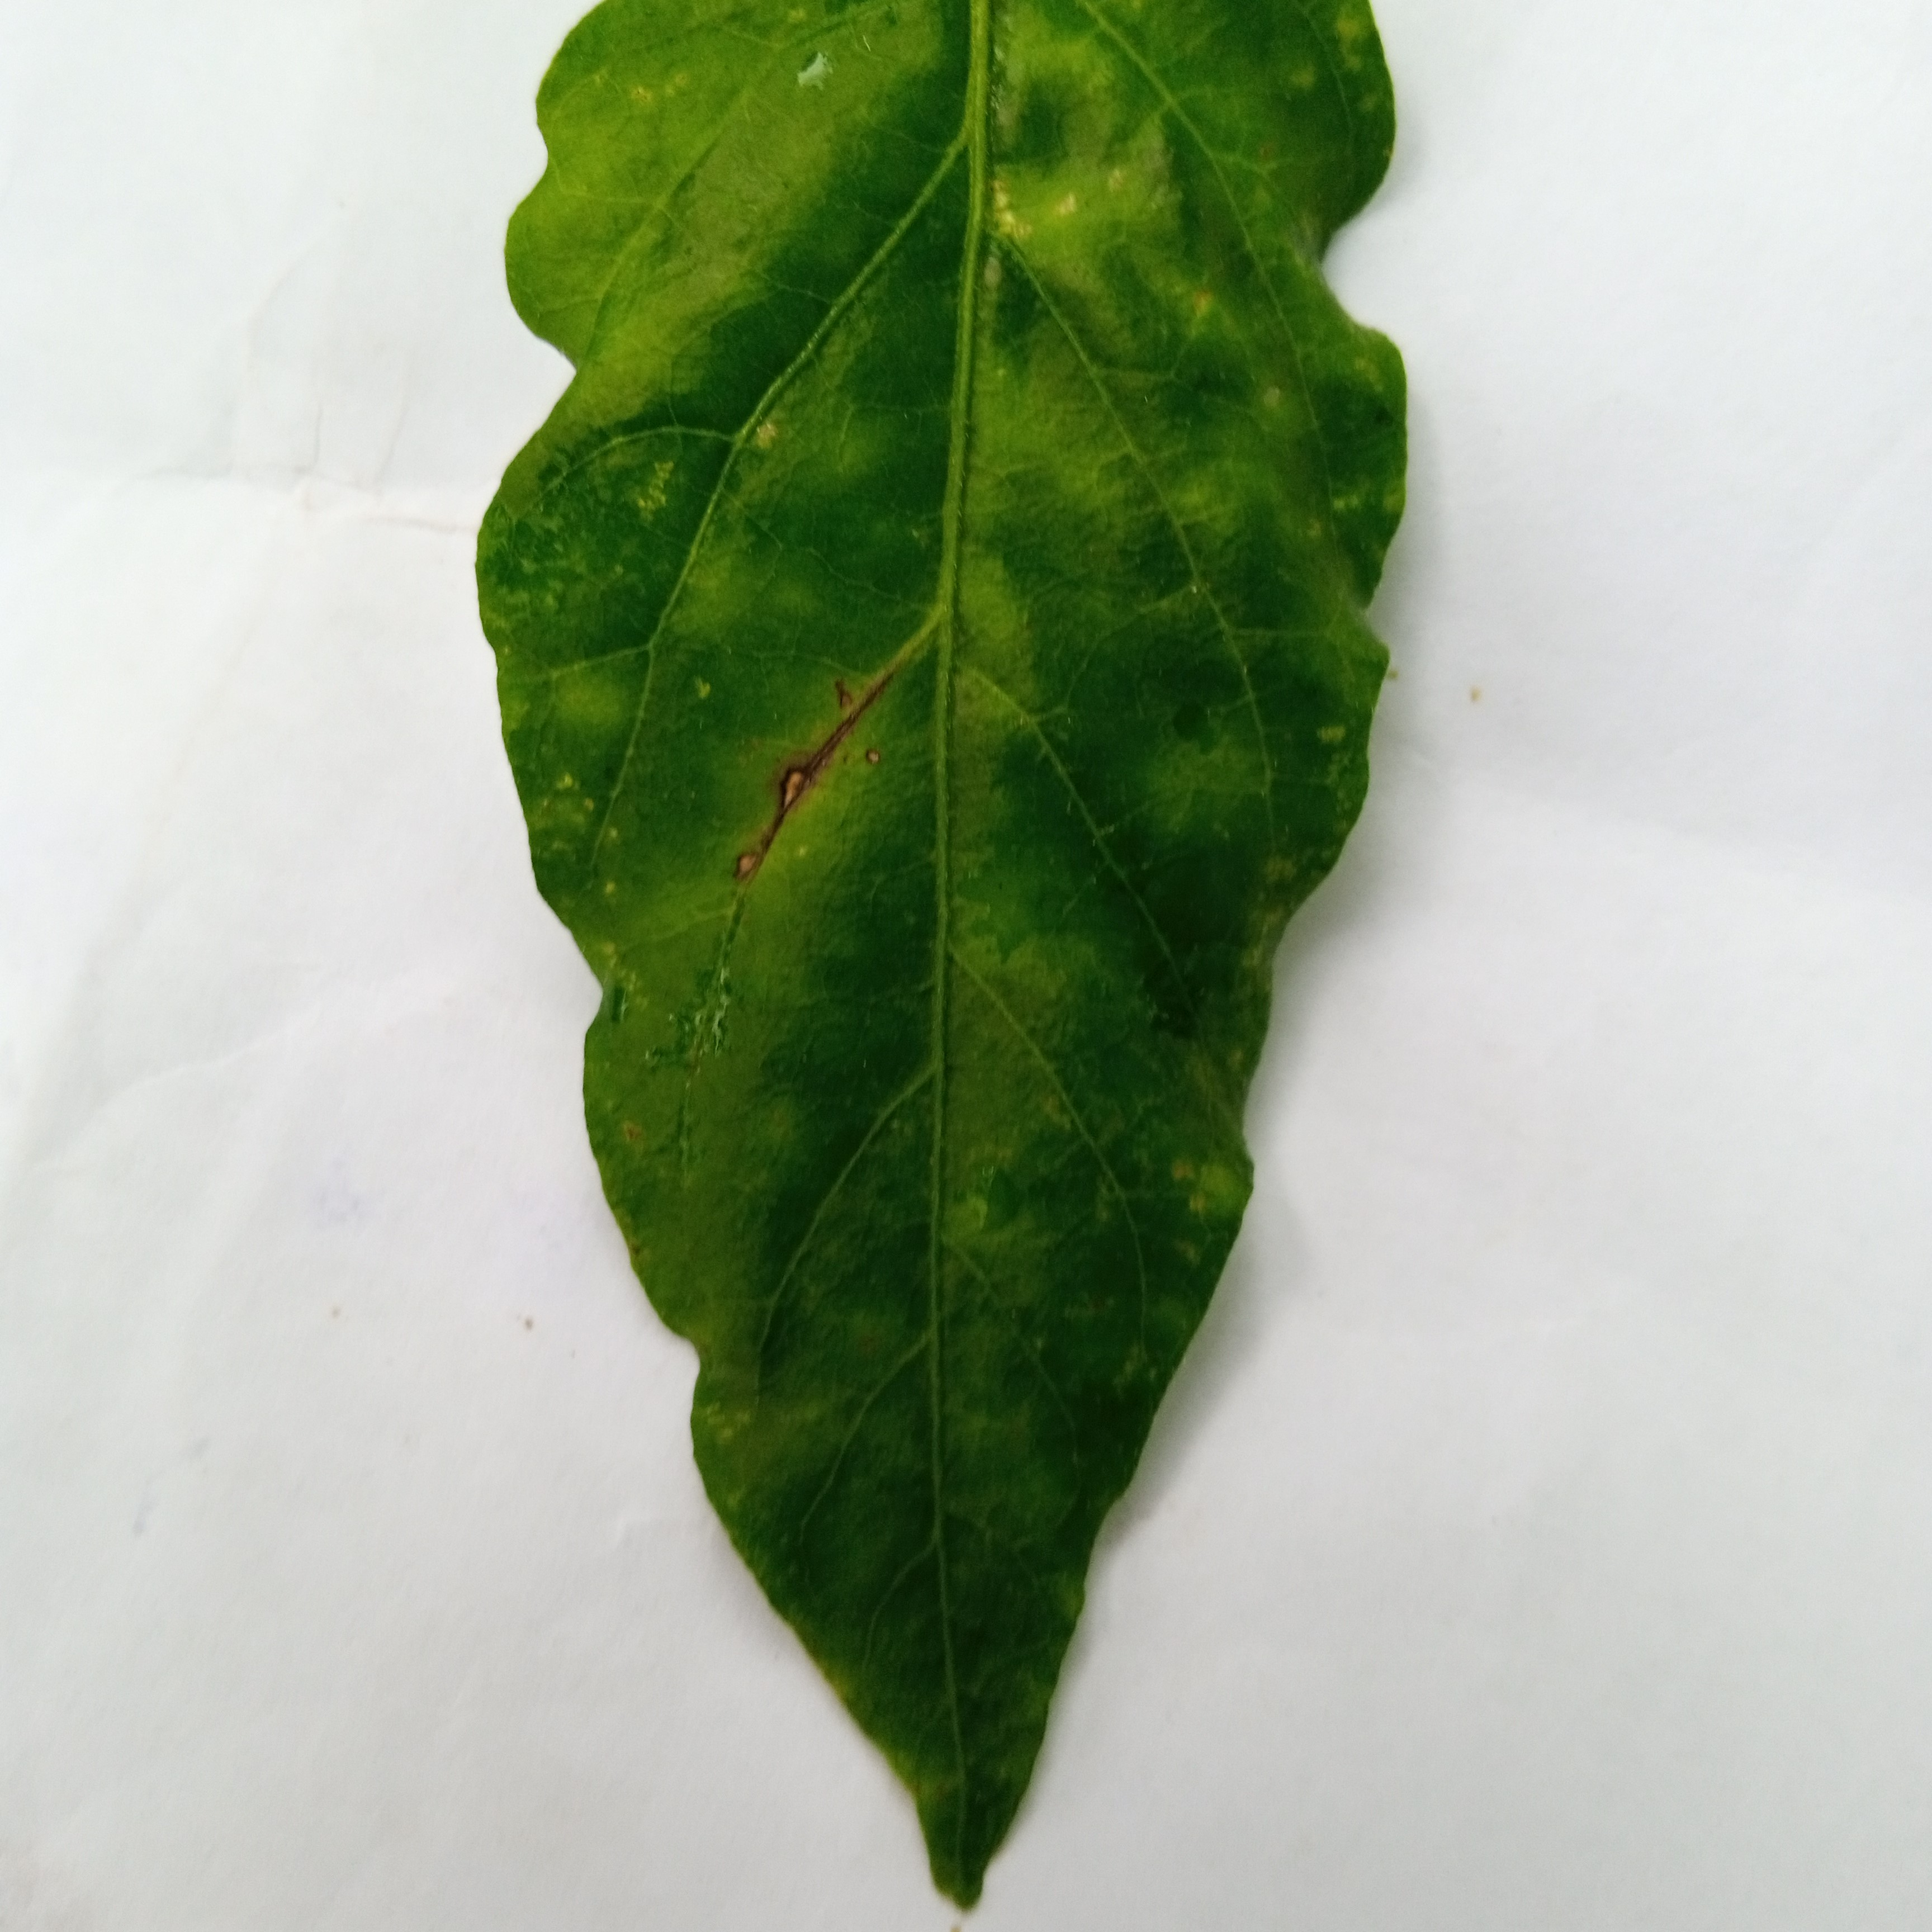Leaf: (315, 0, 1539, 1932)
